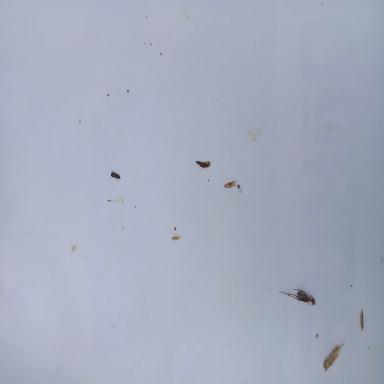pbw: (323, 342, 344, 372), (224, 180, 237, 188), (360, 309, 364, 331)
